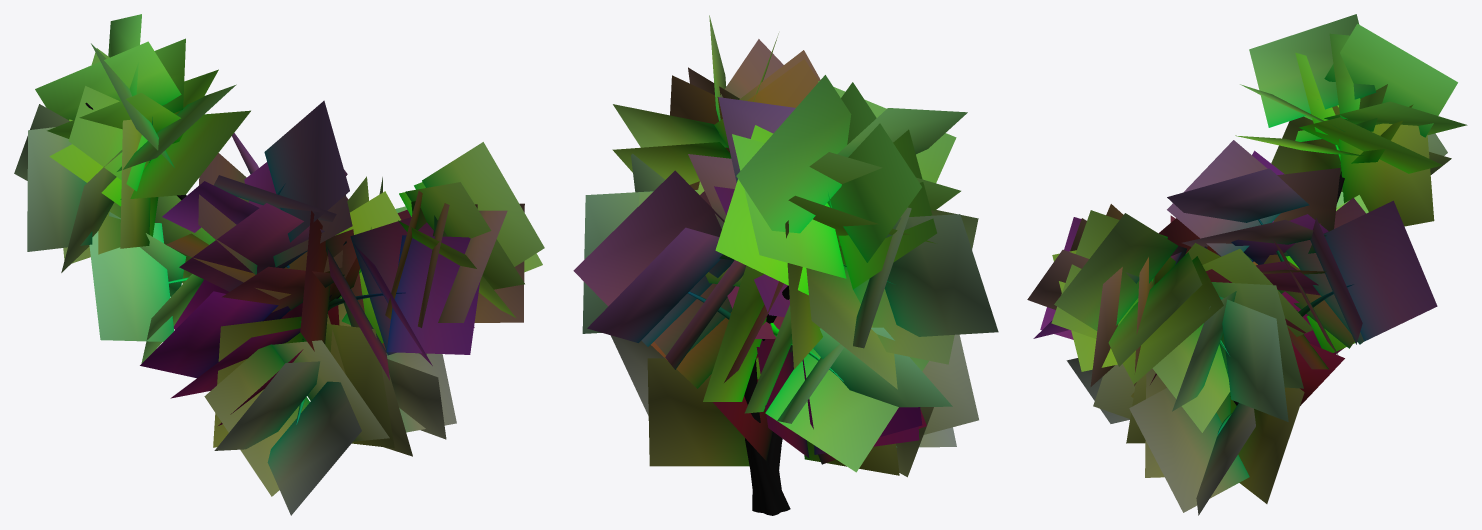
File: URP_P15_Tree_6_LOD_1.fbx
3 renders of one model, left to right at view 1: azimuth 30°, elevation 25°; view 2: azimuth 150°, elevation 25°; view 3: azimuth 270°, elevation 25°, orthographic. The views are drawn at different scales.
Parts seen in each view (by area): view 1: Tree_6_LOD_1; view 2: Tree_6_LOD_1; view 3: Tree_6_LOD_1.
Boxes of the visible parts, x1,y1,x2,y2 form: Tree_6_LOD_1: (14, 14, 544, 515); Tree_6_LOD_1: (573, 15, 998, 515); Tree_6_LOD_1: (1027, 14, 1467, 515).
Bounding box in the file's own units: 715 × 717 × 706.
